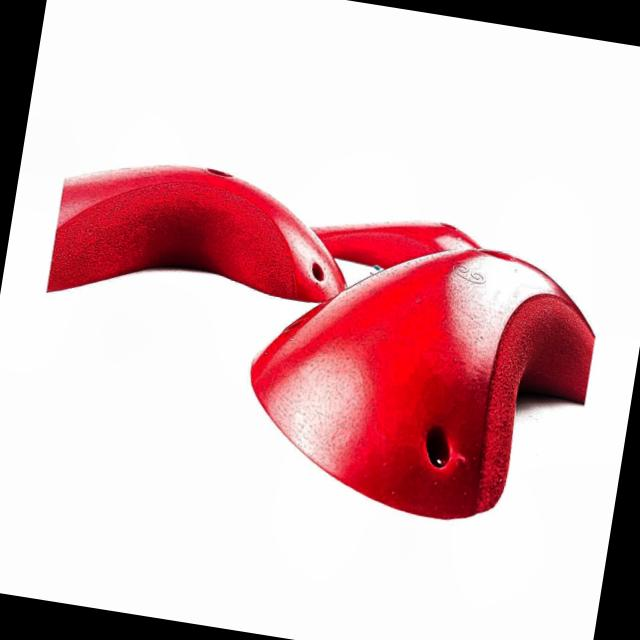Hold: (226, 211, 606, 545), (50, 139, 354, 307), (282, 189, 480, 287)
